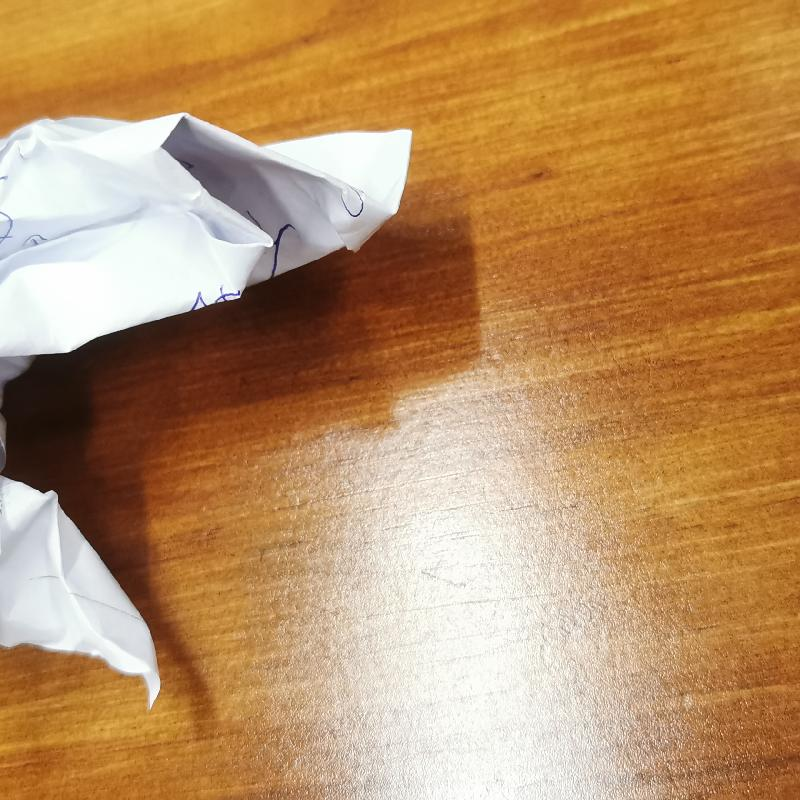spitball: (4, 103, 418, 716)
